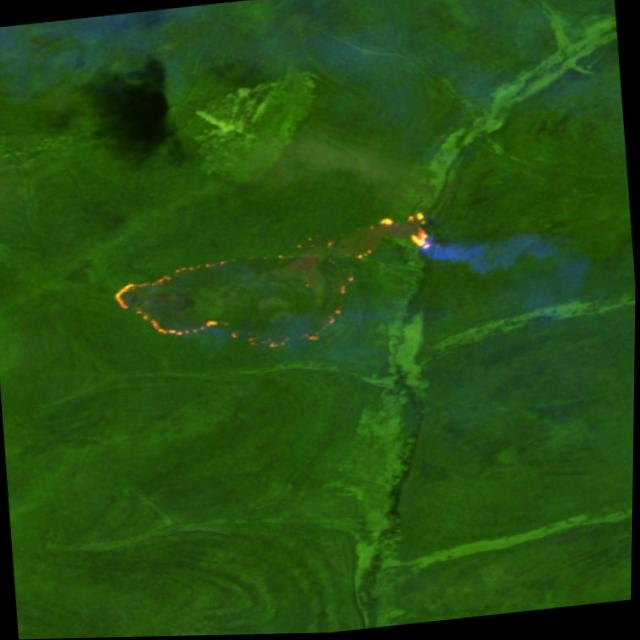fire: (104, 253, 233, 346), (360, 205, 442, 261)
